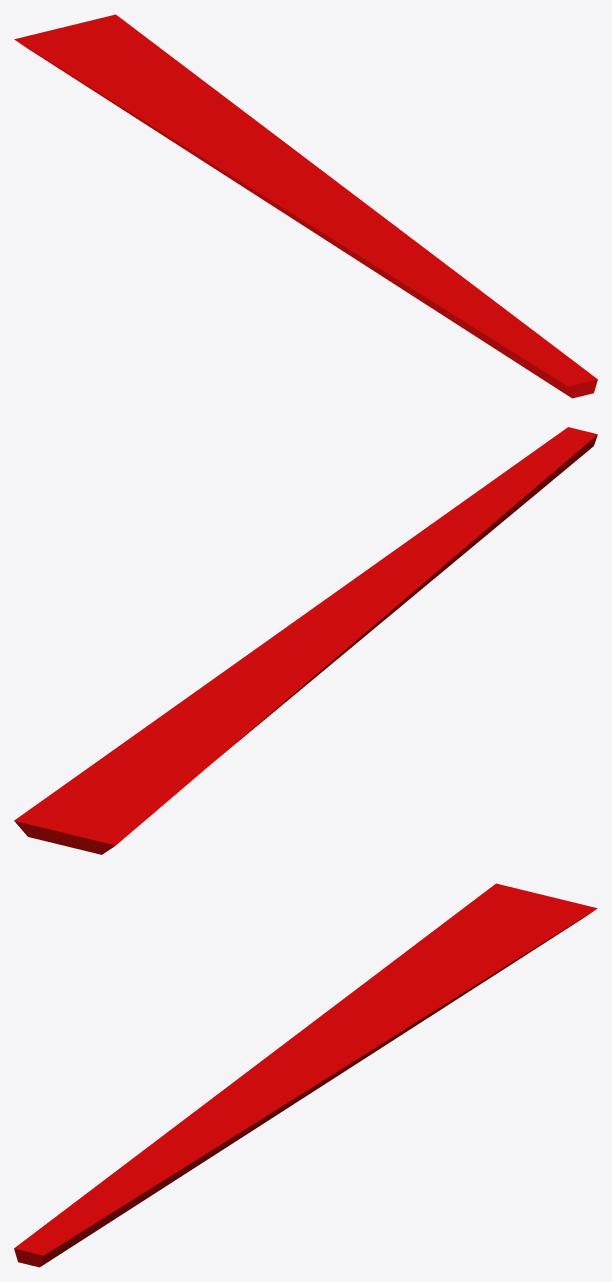
The model's file is SM_TimePiece.fbx.
3 views of the same model, one above another, from view 1: azimuth 30°, elevation 25°; view 2: azimuth 150°, elevation 25°; view 3: azimuth 330°, elevation 25° (orthographic).
Parts seen in each view (by area): view 1: TimePiece; view 2: TimePiece; view 3: TimePiece.
Part boxes in pixels (<box>): TimePiece: <box>14,14,597,398</box>; TimePiece: <box>14,427,597,854</box>; TimePiece: <box>14,883,597,1267</box>.
Size of the model in its own units: 0.1074 by 0.0362 by 0.9461.
